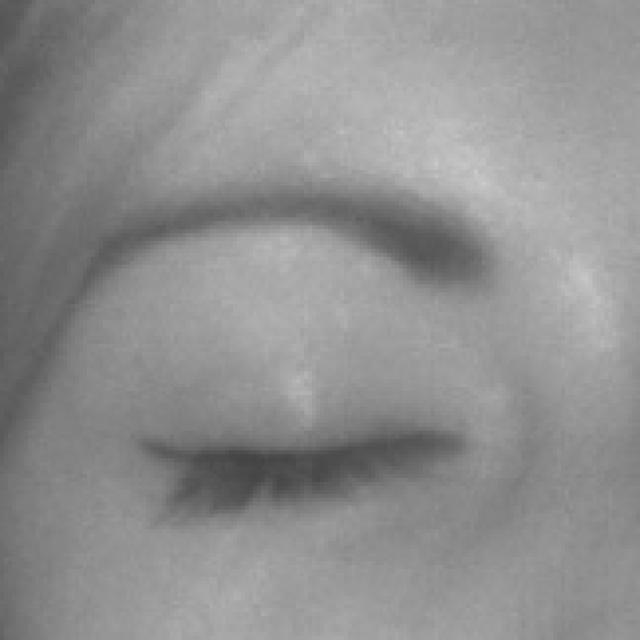Eyeclosed: (122, 302, 464, 626)
